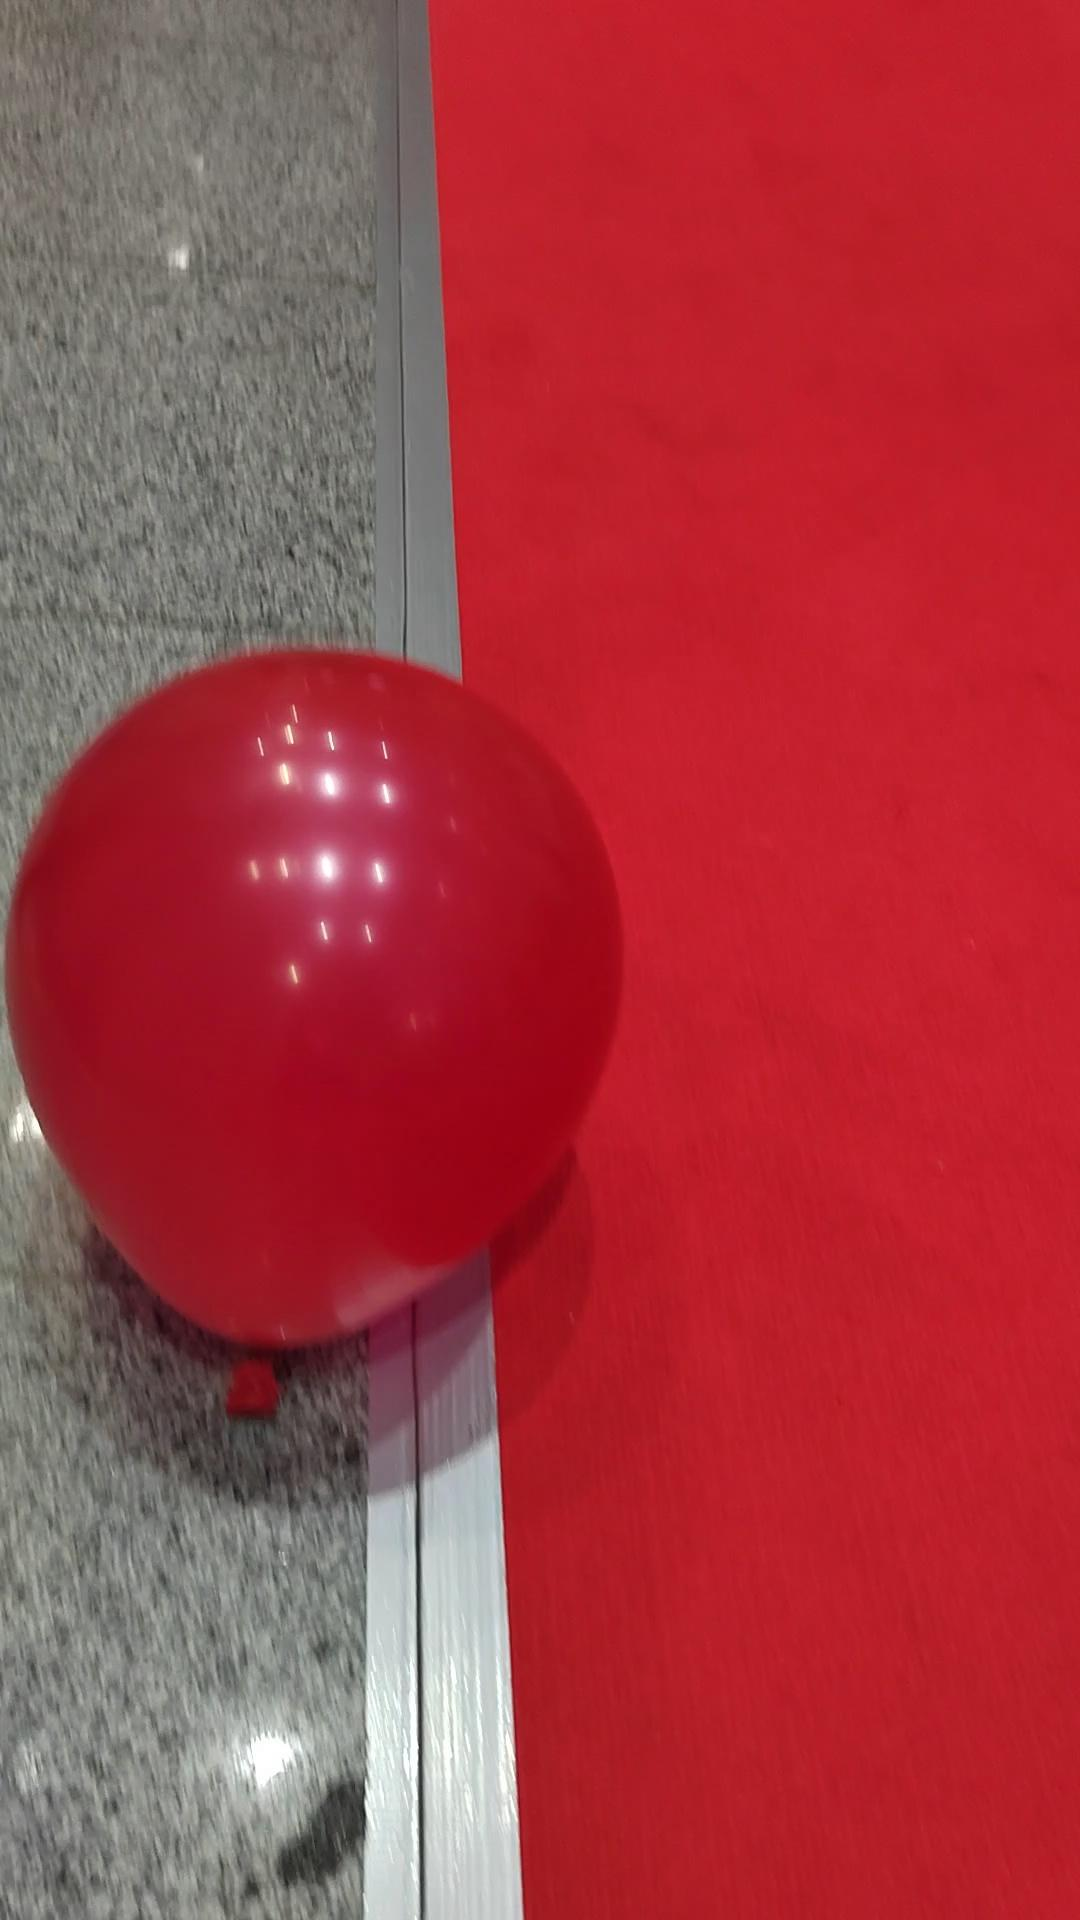red: (0, 644, 633, 1370)
